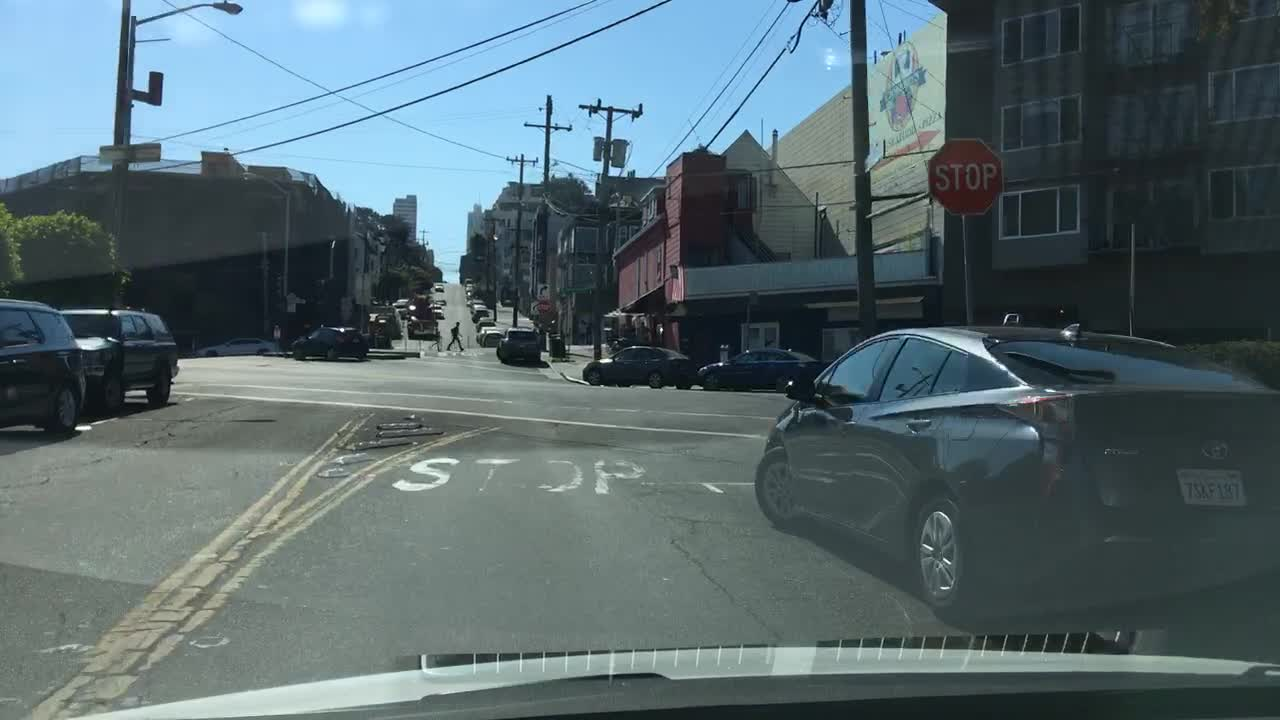car: (754, 312, 1279, 617), (59, 306, 180, 409), (0, 295, 87, 433), (696, 346, 822, 387), (581, 345, 694, 390), (289, 321, 370, 358), (497, 326, 541, 366), (196, 337, 282, 356), (407, 310, 439, 337), (375, 313, 401, 340), (480, 325, 501, 344), (473, 322, 490, 343), (374, 303, 397, 315), (471, 305, 489, 318), (478, 314, 497, 326), (467, 298, 484, 306), (436, 296, 446, 306), (435, 284, 444, 292)
person: (446, 319, 469, 353), (430, 324, 444, 355)
traffic light: (656, 323, 665, 335)
traffic sign: (927, 137, 1002, 215), (286, 291, 308, 304), (533, 285, 553, 299), (537, 299, 554, 313), (528, 302, 536, 315), (284, 306, 298, 312)
truck: (396, 295, 410, 319)
